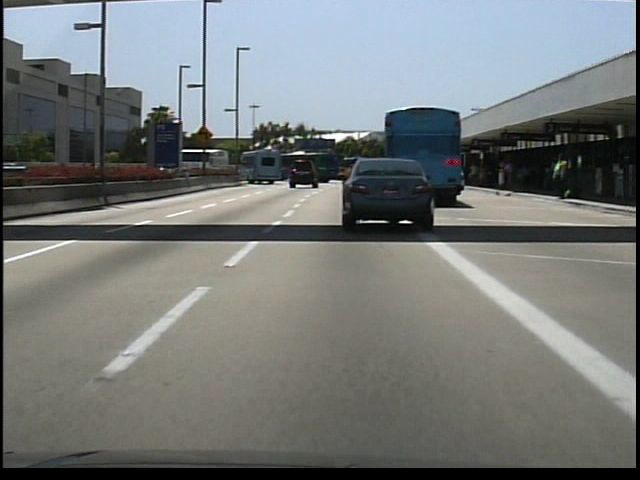person: (548, 153, 570, 201)
